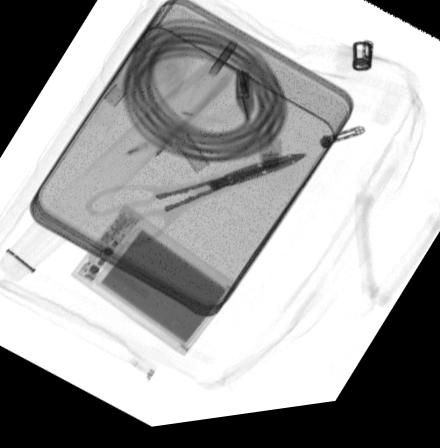Powerbank: (67, 206, 237, 365)
Scissors: (83, 160, 309, 254)
